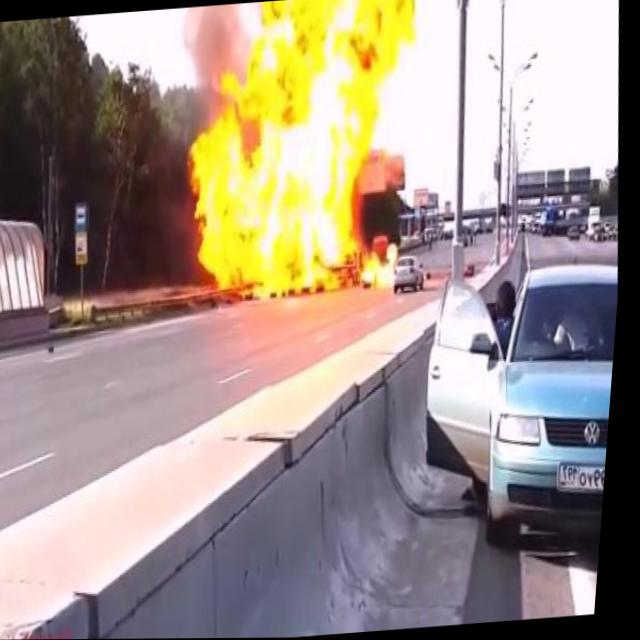fire: (161, 0, 438, 312)
